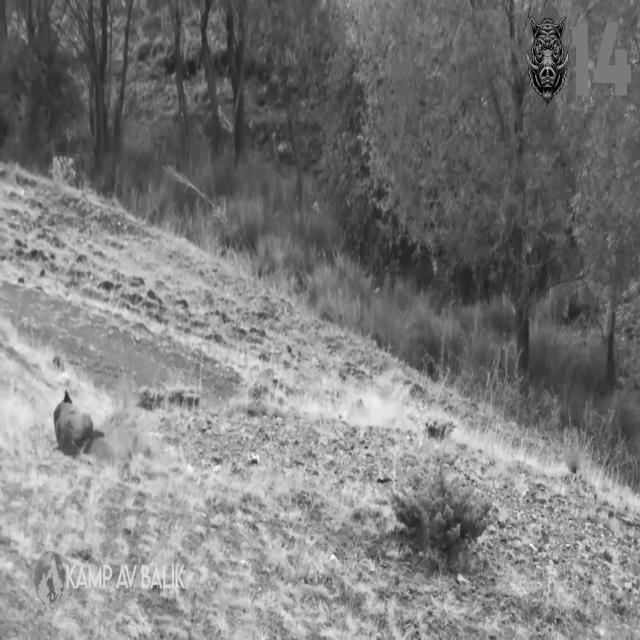boar: (527, 15, 567, 104), (53, 391, 93, 455)
